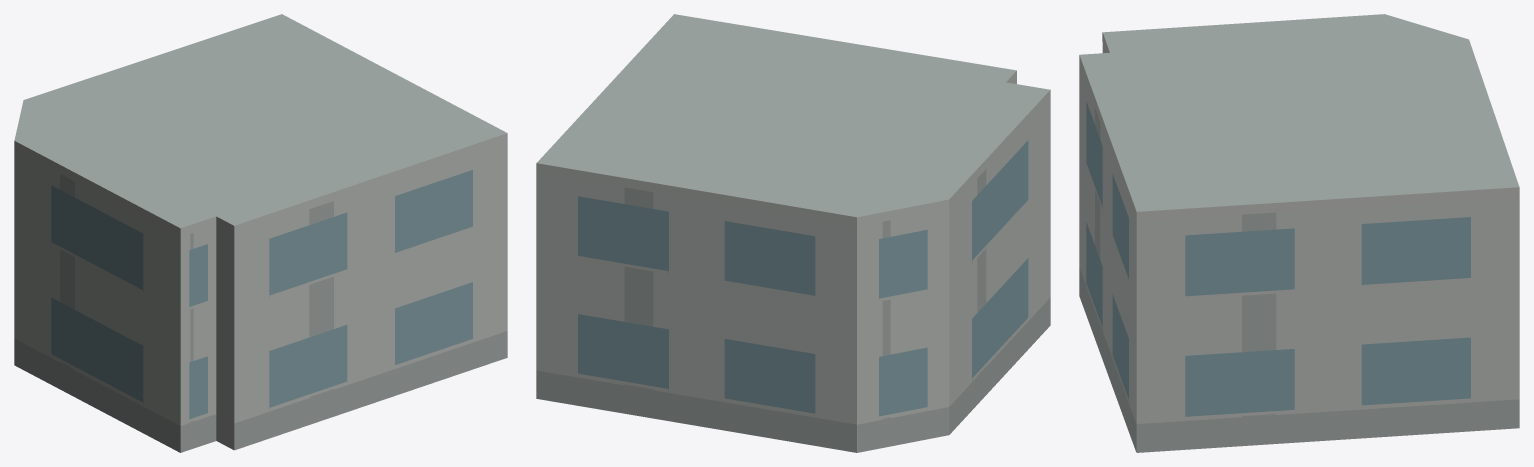
The model's file is residential-6521e63a-0cca-40df-bf87-7ce67341cc02.glb.
3 views of the same model, side by side, from view 1: azimuth 30°, elevation 25°; view 2: azimuth 150°, elevation 25°; view 3: azimuth 270°, elevation 25° (orthographic). The views are drawn at different scales.
Parts seen in each view (by area): view 1: residential-6521e63a-0cca-40df-bf87-7ce67341cc02.tmp; view 2: residential-6521e63a-0cca-40df-bf87-7ce67341cc02.tmp; view 3: residential-6521e63a-0cca-40df-bf87-7ce67341cc02.tmp.
Boxes of the visible parts, box(x1,y1,x2,y2) form: residential-6521e63a-0cca-40df-bf87-7ce67341cc02.tmp: box(14, 14, 507, 452); residential-6521e63a-0cca-40df-bf87-7ce67341cc02.tmp: box(536, 14, 1050, 452); residential-6521e63a-0cca-40df-bf87-7ce67341cc02.tmp: box(1079, 14, 1519, 452).
Size of the model in its own units: 10.75 by 6.1 by 10.11.
